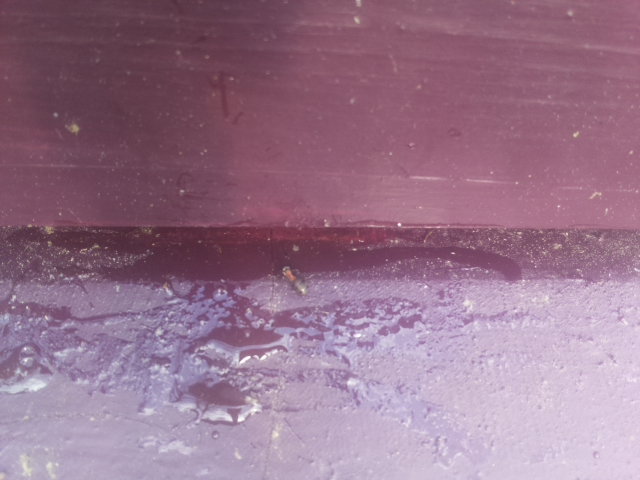ant: (0, 343, 47, 388), (273, 261, 316, 299)
